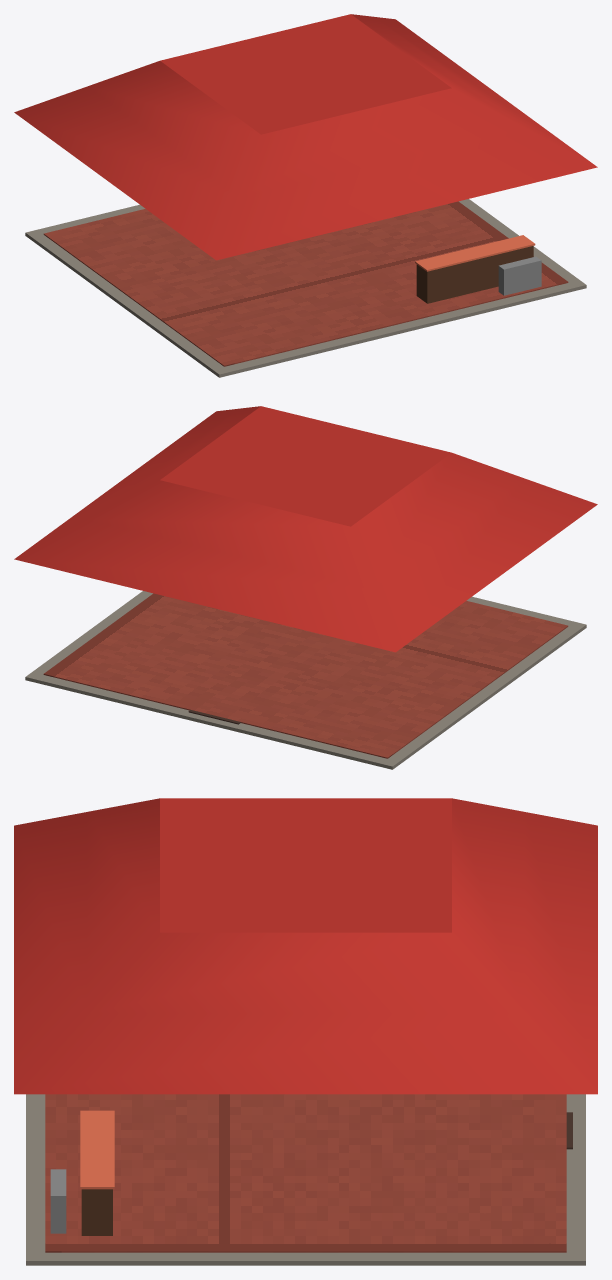
File: structure.glb
The picture shows the model from 3 angles, top to bottom: view 1: azimuth 30°, elevation 25°; view 2: azimuth 150°, elevation 25°; view 3: azimuth 270°, elevation 25°; orthographic projection. The views are drawn at different scales.
Parts seen in each view (by area): view 1: Part1, Box2, Box1, Box7, Box8, Box9; view 2: Part1, Box2, Box1; view 3: Part1, Box2, Box1, Box8, Box7, Box9.
Boxes of the visible parts, <box> form: Part1: <box>14,14,597,260</box>; Box2: <box>43,201,568,366</box>; Box1: <box>25,199,586,377</box>; Box7: <box>416,246,533,303</box>; Box8: <box>415,235,535,271</box>; Box9: <box>498,256,541,295</box>; Part1: <box>14,406,597,652</box>; Box2: <box>43,593,568,758</box>; Box1: <box>25,591,586,769</box>; Part1: <box>14,798,597,1094</box>; Box2: <box>45,1094,566,1252</box>; Box1: <box>26,1094,585,1265</box>; Box8: <box>80,1110,114,1189</box>; Box7: <box>81,1189,112,1235</box>; Box9: <box>50,1169,66,1233</box>.
Size of the model in its own units: 12.2 by 5.73 by 11.2.
Materials: 10 (1 with a texture image).
